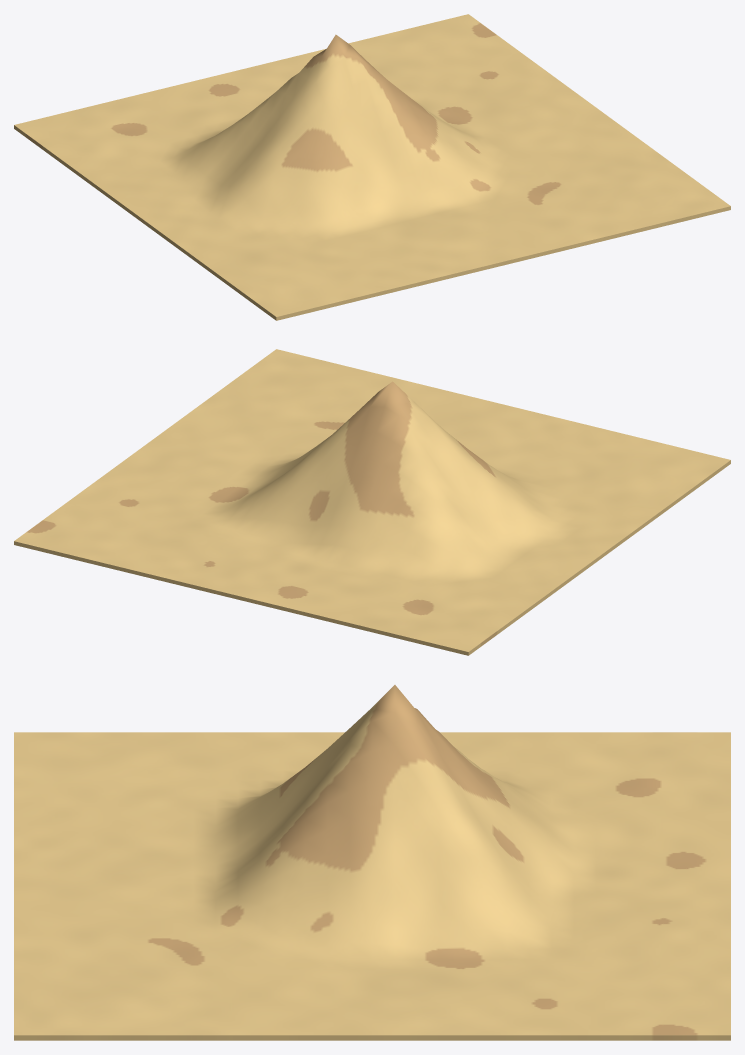
Rendered from Desert_Mountains_01.obj.
3 views of the same model, one above another, from view 1: azimuth 30°, elevation 25°; view 2: azimuth 150°, elevation 25°; view 3: azimuth 270°, elevation 25° (orthographic). The views are drawn at different scales.
Bounding box in the file's own units: 10 × 2.86 × 10.
1 material, 1 textured.
